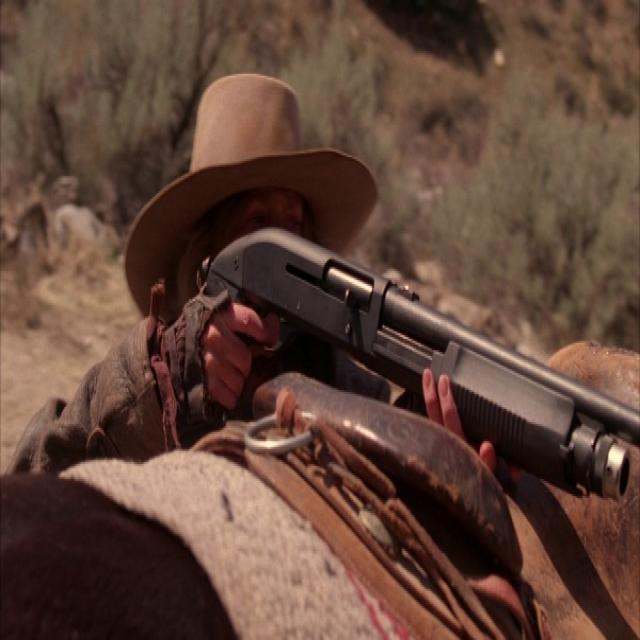rifle: (204, 220, 640, 512)
